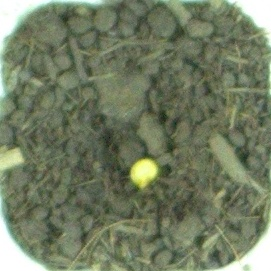chilli seed: (127, 156, 162, 192)
